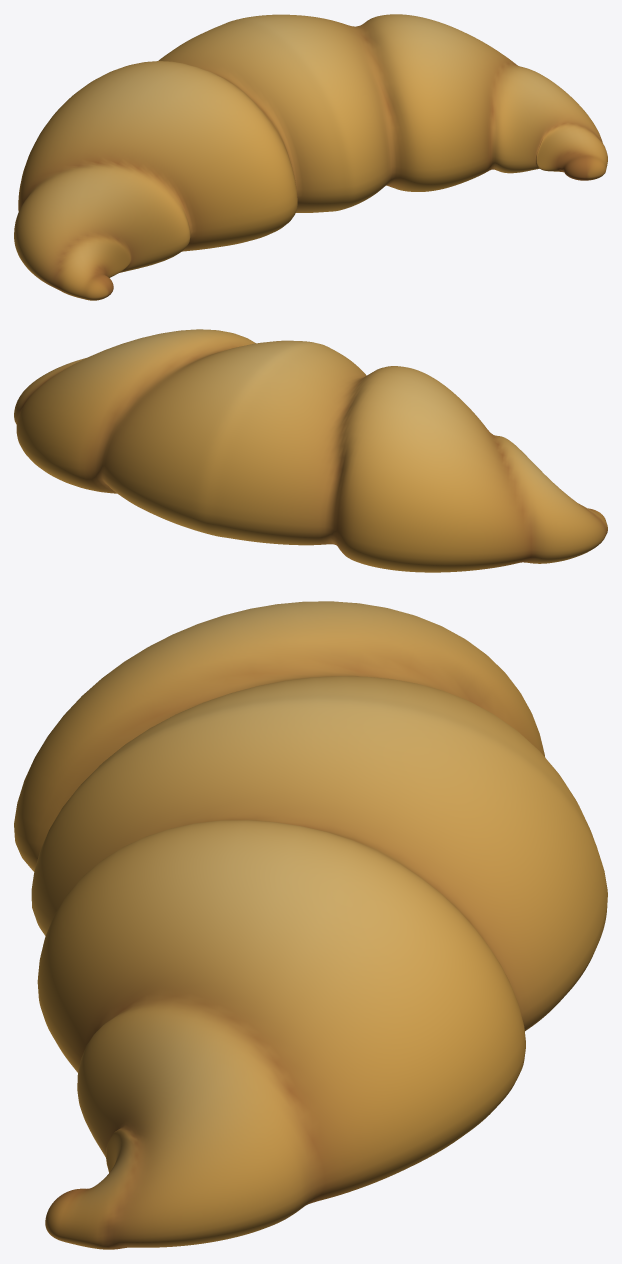
File: croissant.glb
The picture shows the model from 3 angles, top to bottom: view 1: azimuth 30°, elevation 25°; view 2: azimuth 150°, elevation 25°; view 3: azimuth 270°, elevation 25°; orthographic projection. The views are drawn at different scales.
Parts seen in each view (by area): view 1: Croissant; view 2: Croissant; view 3: Croissant.
Boxes of the visible parts, x1,y1,x2,y2 form: Croissant: (14, 14, 607, 300); Croissant: (14, 329, 607, 572); Croissant: (14, 601, 607, 1249).
Size of the model in its own units: 0.9987 by 0.2717 by 0.4751.
